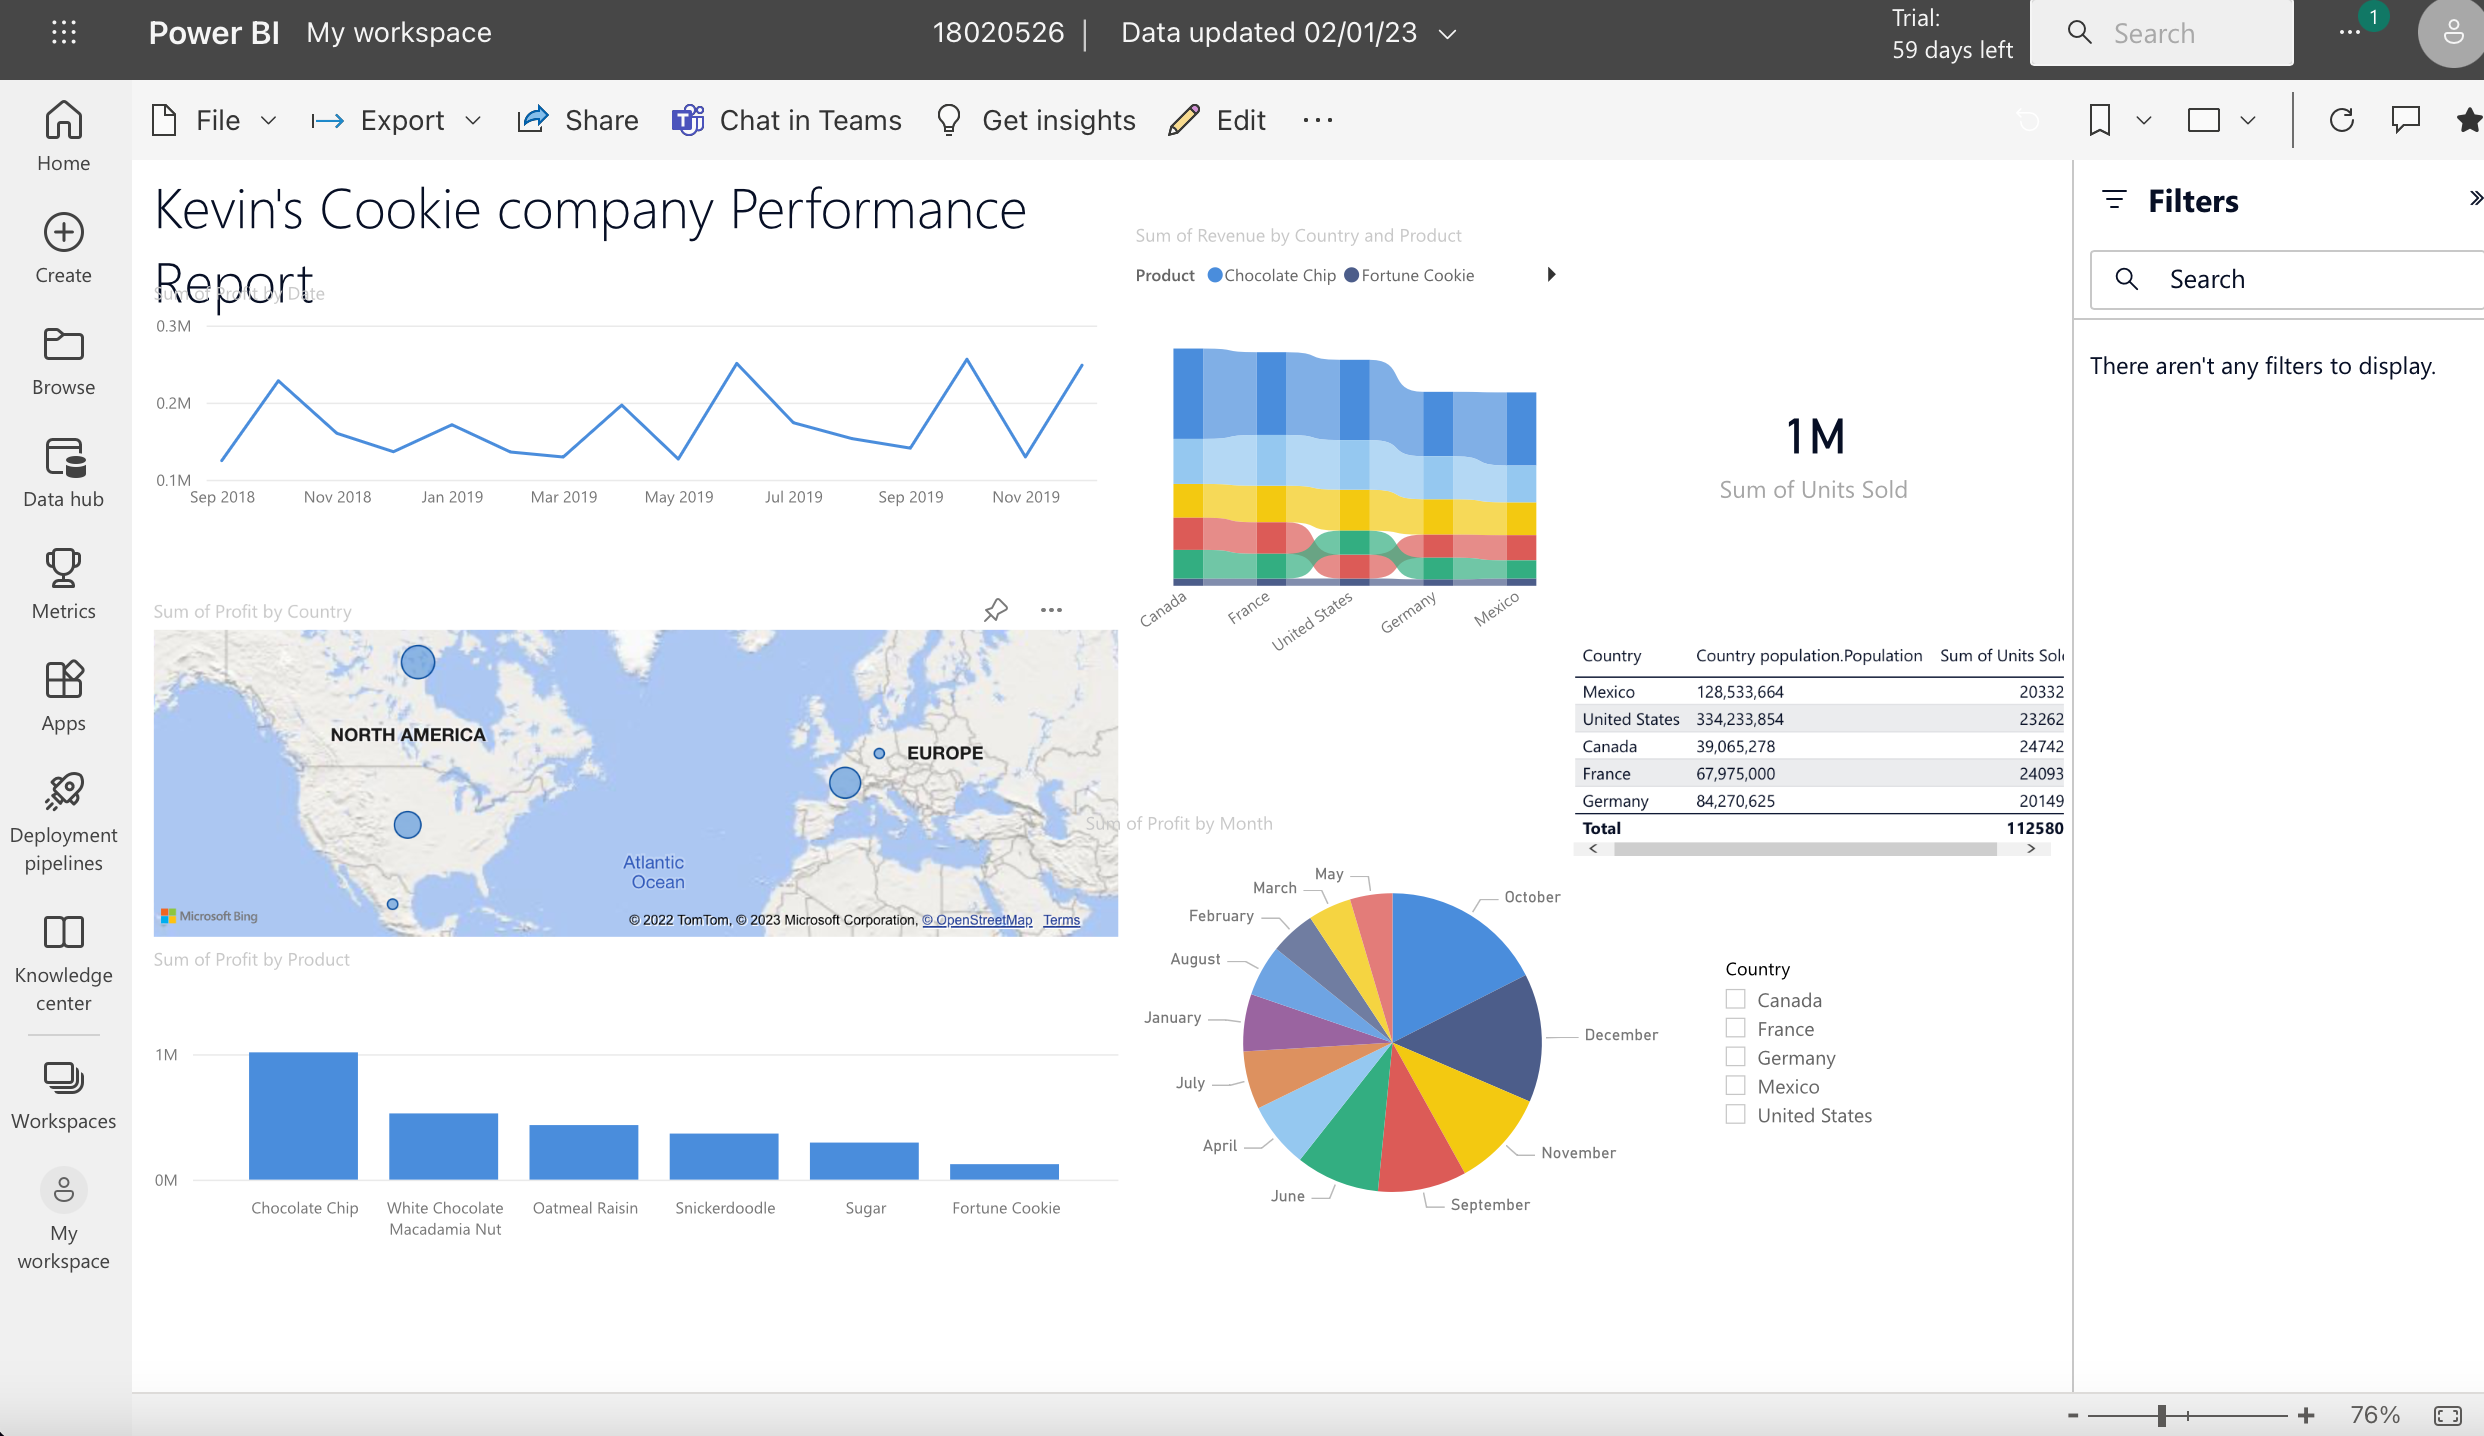

The dashboard page shown, as its layout file describes it:
{"tool":"powerbi","page":{"name":"Page 1","canvas":[1280,720],"ordinal":0},"visuals":[{"type":"textbox","box":[9.7,0,614.8,279.3],"z":0},{"type":"lineChart","fields":{"Category":["Cookie Sales.Date"],"Y":["Sum(Cookie Sales.Profit)"]},"box":[9.4,78.9,646.6,159.8],"z":1},{"type":"map","fields":{"Category":["Cookie Sales.Country"],"Size":["Sum(Cookie Sales.Profit)"]},"box":[9.4,289.5,646.6,229.3],"z":2},{"type":"tableEx","fields":{"Values":["Cookie Sales.Country","Cookie Sales.Country population.Population","Sum(Cookie Sales.Units Sold)"]},"box":[946.4,312.2,333.6,151.3],"z":3},{"type":"clusteredColumnChart","fields":{"Category":["Cookie Sales.Product"],"Y":["Sum(Cookie Sales.Profit)"]},"box":[9.4,518.8,646.6,201.1],"z":4},{"type":"pieChart","fields":{"Category":["Cookie Sales.Month"],"Y":["Sum(Cookie Sales.Profit)"]},"box":[624.5,428.6,415,290.9],"z":6},{"type":"ribbonChart","fields":{"Y":["Sum(Cookie Sales.Revenue)"],"Category":["Cookie Sales.Country"],"Series":["Cookie Sales.Product"]},"box":[657.5,40.7,298.7,298.7],"z":7},{"type":"card","fields":{"Values":["Sum(Cookie Sales.Units Sold)"]},"box":[947.4,91.4,324.9,198.4],"z":8},{"type":"slicer","fields":{"Values":["Cookie Sales.Country"]},"box":[1038.8,519.4,241.2,200.4],"z":9}]}

Visuals, with their boxes on the page's 1280x720 design canvas (x1, y1, x2, y2). These are canvas units, not pixel positions in the 2484x1436 screenshot, which may show the page scaled, cropped or inside an application window:
textbox: [x1=10, y1=0, x2=624, y2=279]
lineChart - Cookie Sales.Date x Sum(Cookie Sales.Profit): [x1=9, y1=79, x2=656, y2=239]
map - Cookie Sales.Country x Sum(Cookie Sales.Profit): [x1=9, y1=290, x2=656, y2=519]
tableEx - Cookie Sales.Country x Cookie Sales.Country population.Population: [x1=946, y1=312, x2=1280, y2=464]
clusteredColumnChart - Cookie Sales.Product x Sum(Cookie Sales.Profit): [x1=9, y1=519, x2=656, y2=720]
pieChart - Cookie Sales.Month x Sum(Cookie Sales.Profit): [x1=624, y1=429, x2=1040, y2=720]
ribbonChart - Sum(Cookie Sales.Revenue) x Cookie Sales.Country: [x1=658, y1=41, x2=956, y2=339]
card - Sum(Cookie Sales.Units Sold): [x1=947, y1=91, x2=1272, y2=290]
slicer - Cookie Sales.Country: [x1=1039, y1=519, x2=1280, y2=720]
